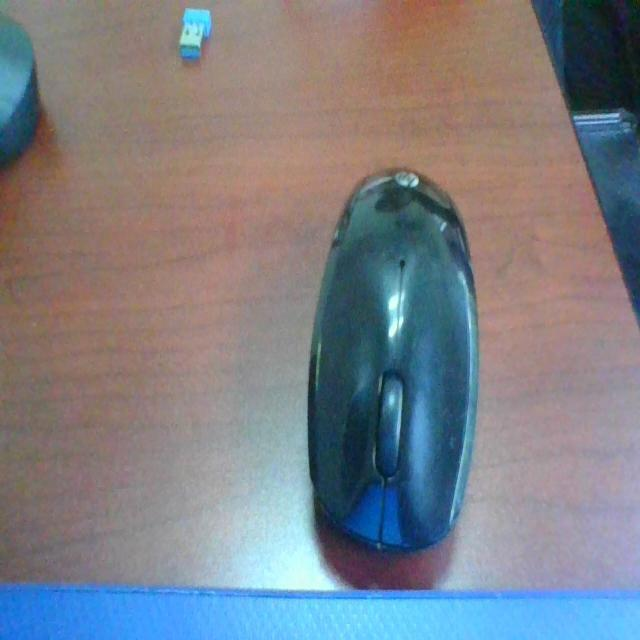mouse: (282, 136, 522, 591)
